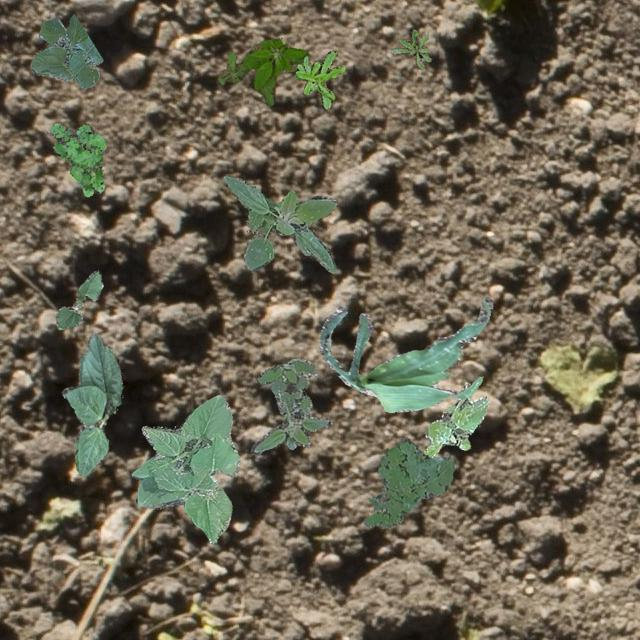crop: (318, 296, 492, 412), (130, 393, 238, 542), (62, 332, 122, 476), (29, 13, 102, 88), (54, 270, 102, 328)
weed: (222, 172, 336, 272), (362, 436, 454, 526), (250, 356, 330, 454), (215, 37, 308, 104), (422, 381, 488, 457), (44, 121, 104, 196), (292, 49, 344, 108), (390, 28, 430, 68)
